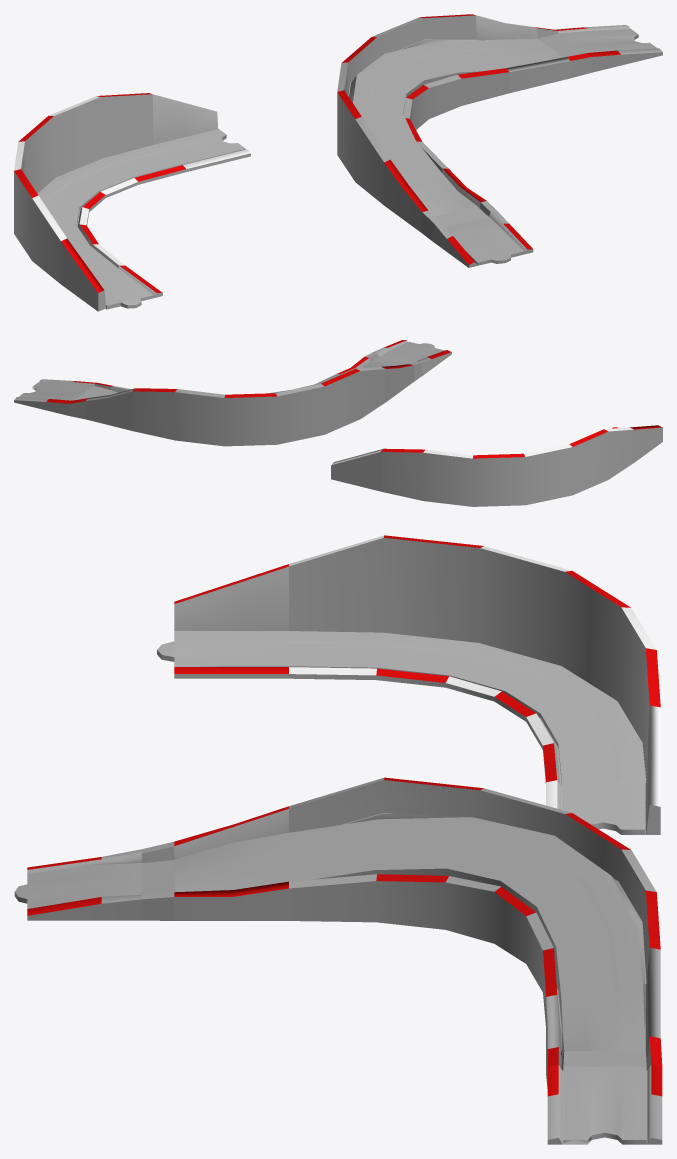
File: Corner turn Race track.fbx
3 renders of one model, top to bottom at view 1: azimuth 30°, elevation 25°; view 2: azimuth 150°, elevation 25°; view 3: azimuth 270°, elevation 25°, orthographic. The views are drawn at different scales.
Parts seen in each view (by area): view 1: polySurface30, polySurface28; view 2: polySurface30, polySurface28; view 3: polySurface30, polySurface28.
Part boxes in pixels (x1,y1,x2,y2): polySurface30: (337,14,662,267); polySurface28: (14,93,250,311); polySurface30: (14,340,451,446); polySurface28: (331,425,662,506); polySurface30: (14,777,662,1144); polySurface28: (157,535,660,834).
Bounding box in the file's own units: 257 × 23.9 × 137.
